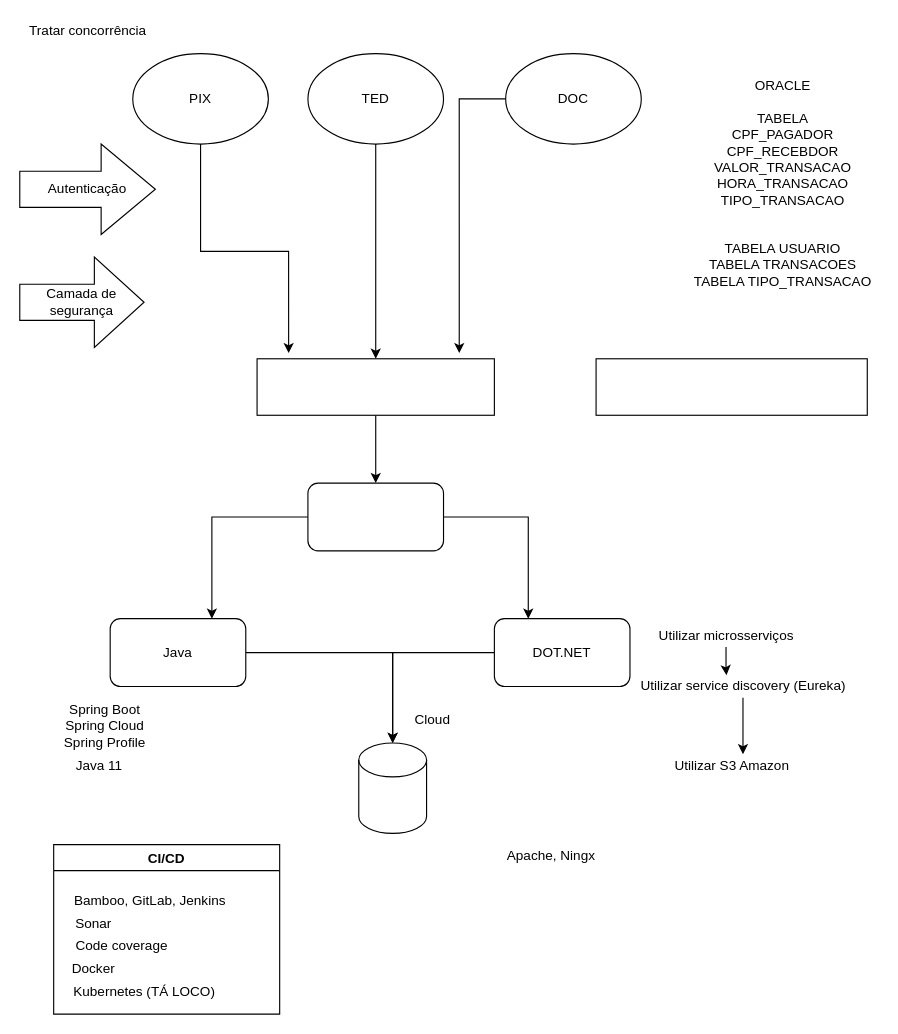
This 898x1034 diagram has some shape labels left out. Each missing label, with the centre of its shape:
CONSULTAR_TRANSACAO_BANCARIA: point 731,386
EFETUAR_TRANSACAO_BANCARIA (ENDPOINT): point 375,386
NoSQL: point 392,787
RabbitMQ (PIX, TED, DOC): point 375,516
